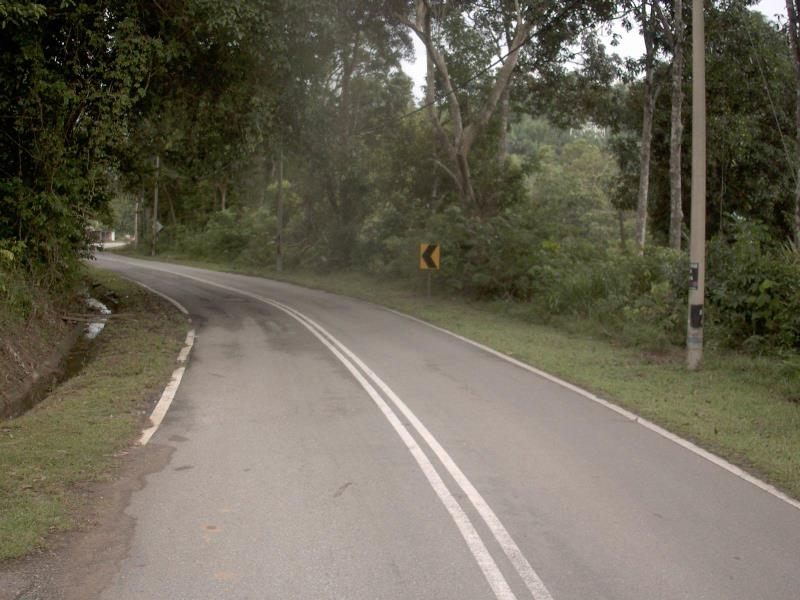traffic_sign: (414, 235, 446, 279)
